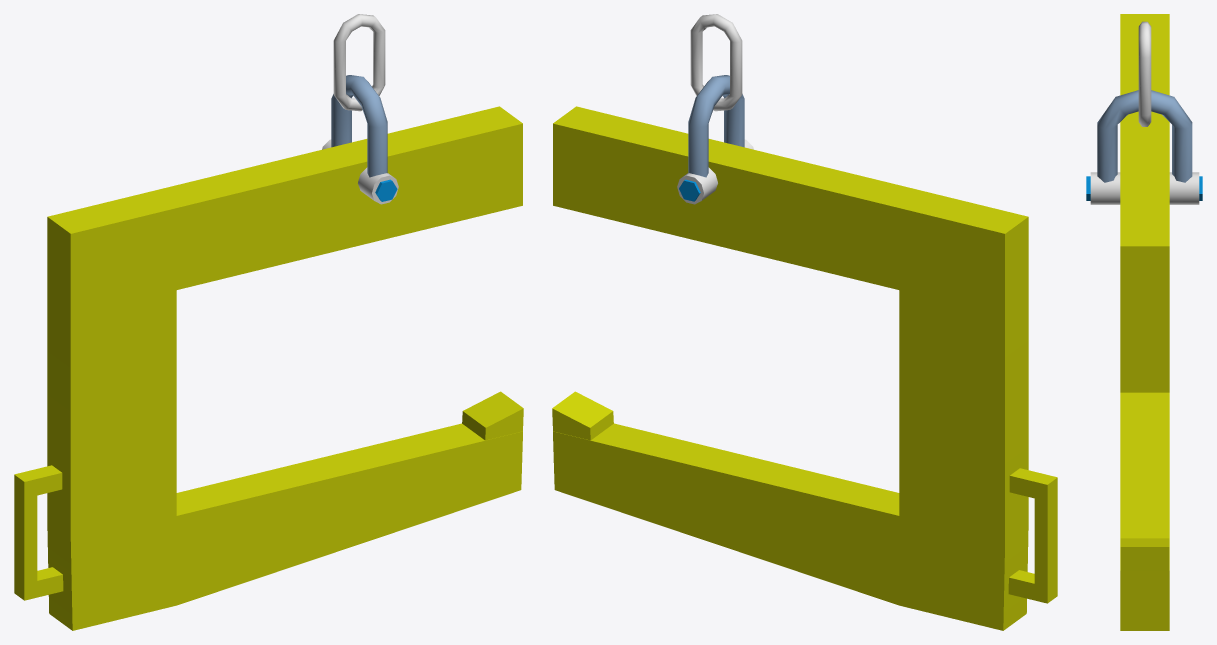
Rendered from GanchoC2.fbx.
The picture shows the model from 3 angles, left to right: view 1: azimuth 30°, elevation 25°; view 2: azimuth 150°, elevation 25°; view 3: azimuth 270°, elevation 25°; orthographic projection. The views are drawn at different scales.
Parts seen in each view (by area): view 1: pCube91, pTorus1, pTorus2, pCylinder22; view 2: pCube91, pTorus1, pTorus2, pCylinder22; view 3: pCube91, pTorus1, pCylinder22, pTorus2, pCylinder23.
Boxes of the visible parts, <box> form: pCube91: <box>14,106,523,630</box>; pTorus1: <box>331,75,387,177</box>; pTorus2: <box>333,14,385,111</box>; pCylinder22: <box>322,139,398,204</box>; pCube91: <box>552,106,1057,630</box>; pTorus1: <box>688,75,744,177</box>; pTorus2: <box>690,14,742,111</box>; pCylinder22: <box>677,139,753,204</box>; pCube91: <box>1120,14,1169,630</box>; pTorus1: <box>1097,90,1192,182</box>; pCylinder22: <box>1090,172,1199,204</box>; pTorus2: <box>1138,21,1151,126</box>; pCylinder23: <box>1086,176,1202,200</box>.
Size of the model in its own units: 266 by 277 by 51.68.
